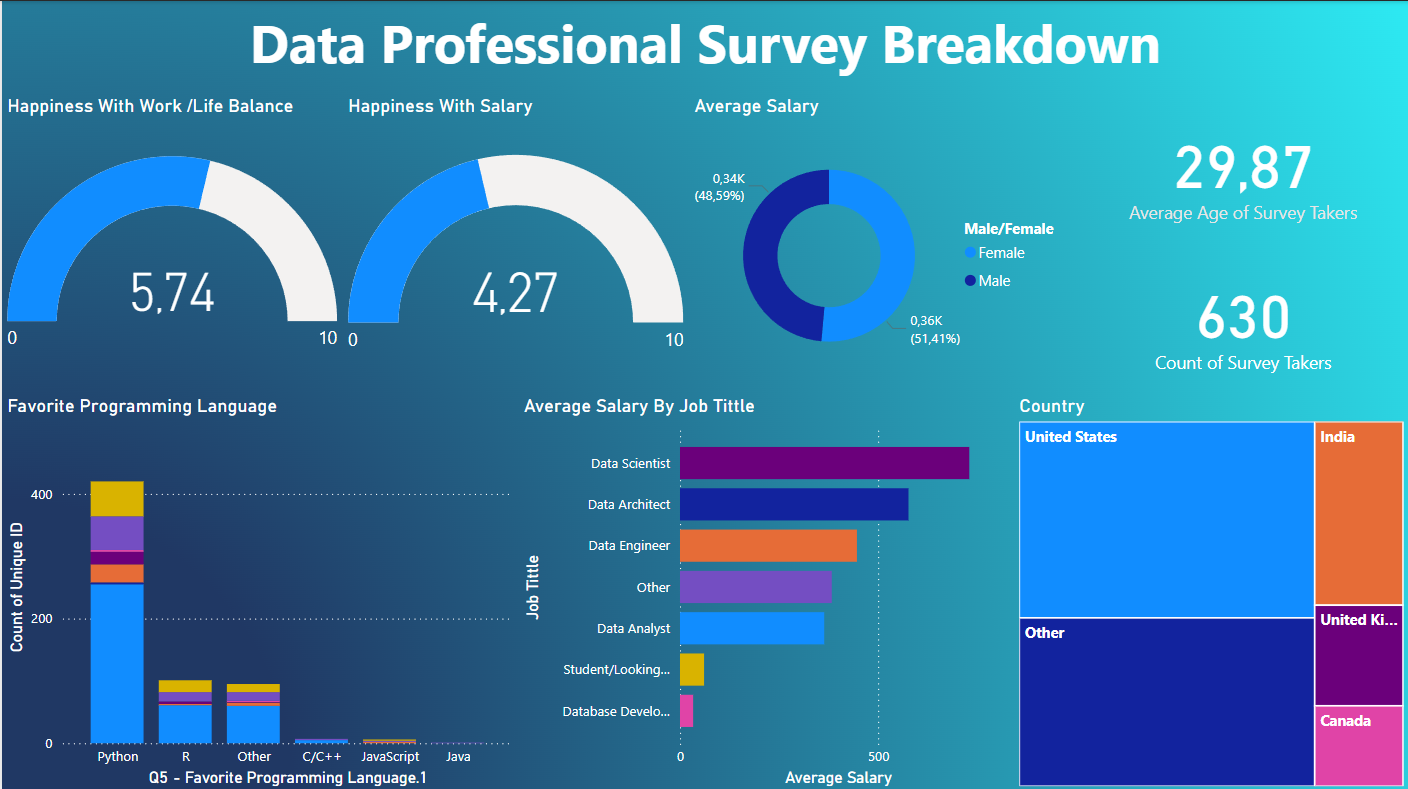

This screenshot's page, from the dashboard's own definition file:
{"tool":"powerbi","page":{"name":"Page 1","canvas":[1280,720],"ordinal":0},"visuals":[{"type":"textbox","box":[0,0,1280.2,85.3],"z":0},{"type":"card","fields":{"Values":["CountNonNull(Data Professional Survey.Unique ID)"]},"box":[979.6,223.1,300.7,136],"z":1000},{"type":"card","fields":{"Values":["Avg(Data Professional Survey.Q10 - Current Age)"]},"box":[979.7,84.9,300.5,138.8],"z":2000},{"type":"barChart","title":"Average Salary By Job Tittle","fields":{"Category":["Data Professional Survey.Q1 - Which Title Best Fits your Current Role?.1"],"Y":["Avg(Data Professional Survey.Average Salary)"],"Series":["Data Professional Survey.Q1 - Which Title Best Fits your Current Role?.1"]},"box":[470.3,359.2,450.7,360.9],"z":3000},{"type":"columnChart","title":"Favorite Programming Language","fields":{"Category":["Data Professional Survey.Q5 - Favorite Programming Language.1"],"Y":["CountNonNull(Data Professional Survey.Unique ID)"],"Series":["Data Professional Survey.Q1 - Which Title Best Fits your Current Role?.1"]},"box":[0,359.2,470.3,360.9],"z":4000},{"type":"treemap","title":"Country","fields":{"Group":["Data Professional Survey.Q11 - Which Country do you live in?.1"],"Values":["CountNonNull(Data Professional Survey.Q11 - Which Country do you live in?.1)"]},"box":[920.9,359.2,359.2,360.9],"z":5000},{"type":"gauge","title":"Happiness With Work /Life Balance","fields":{"Y":["Avg(Data Professional Survey.Q6 - How Happy are you in your Current Position with the following? (Work/Life Balance))"],"MinValue":["Min(Data Professional Survey.Q6 - How Happy are you in your Current Position with the following? (Work/Life Balance))"],"MaxValue":["Max(Data Professional Survey.Q6 - How Happy are you in your Current Position with the following? (Work/Life Balance))"]},"box":[0,86.5,310.2,272.7],"z":6000},{"type":"gauge","title":"Happiness With Salary","fields":{"Y":["Avg(Data Professional Survey.Q6 - How Happy are you in your Current Position with the following? (Salary))"],"MinValue":["Min(Data Professional Survey.Q6 - How Happy are you in your Current Position with the following? (Salary))"],"MaxValue":["Max(Data Professional Survey.Q6 - How Happy are you in your Current Position with the following? (Salary))"]},"box":[310.2,86.5,315.1,272.7],"z":7000},{"type":"donutChart","title":"Average Salary ","fields":{"Category":["Data Professional Survey.Q9 - Male/Female?"],"Y":["Avg(Data Professional Survey.Average Salary)"]},"box":[625.4,86.5,354.3,272.7],"z":8000}]}

Visuals, with their boxes in screenshot pixels (x1, y1, x2, y2), scaled from the page's 1280x720 canvas onto the 1408x789 screenshot:
textbox: BBox(0, 0, 1407, 93)
card - CountNonNull(Data Professional Survey.Unique ID): BBox(1078, 244, 1407, 394)
card - Avg(Data Professional Survey.Q10 - Current Age): BBox(1078, 93, 1407, 245)
"Average Salary By Job Tittle" barChart: BBox(517, 394, 1013, 788)
"Favorite Programming Language" columnChart: BBox(0, 394, 517, 788)
"Country" treemap: BBox(1013, 394, 1407, 788)
"Happiness With Work /Life Balance" gauge: BBox(0, 95, 341, 394)
"Happiness With Salary" gauge: BBox(341, 95, 688, 394)
"Average Salary " donutChart: BBox(688, 95, 1078, 394)
